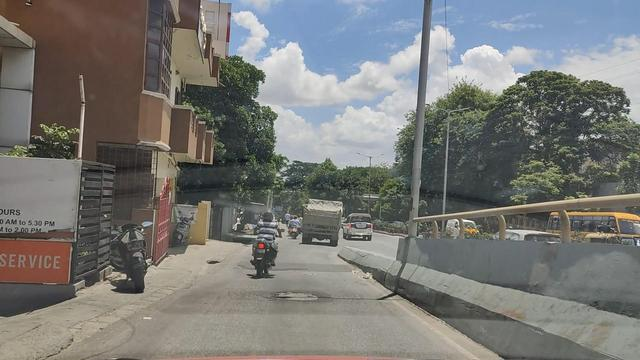HMV: (299, 197, 346, 249)
RoadDamages: (265, 284, 335, 308), (202, 251, 227, 271)
